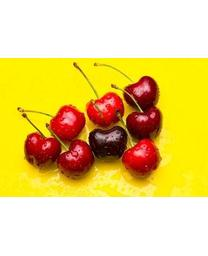cherry: (121, 138, 161, 175), (55, 140, 95, 177), (85, 92, 124, 127), (24, 133, 61, 168), (48, 106, 86, 140), (122, 76, 160, 110), (87, 126, 125, 160), (126, 105, 161, 140)
